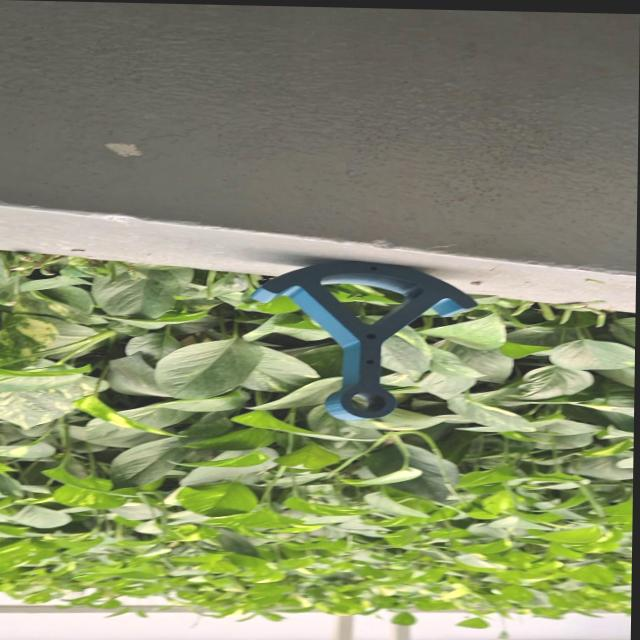haptic: (245, 258, 482, 425)
